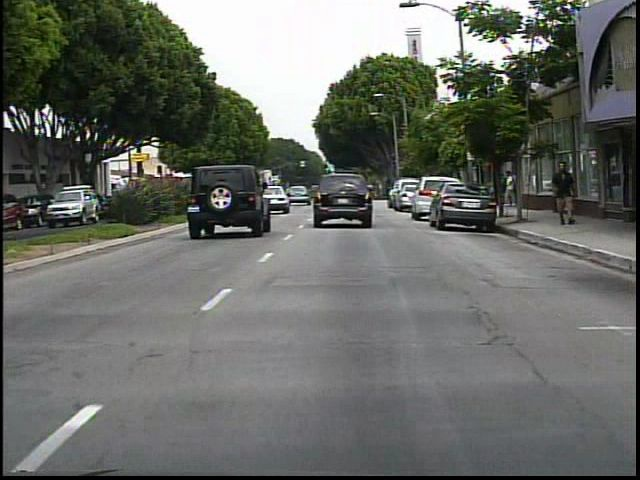person: (548, 157, 581, 230), (503, 168, 518, 210)
